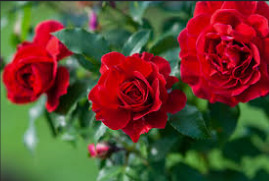RedRose: (181, 0, 268, 99), (91, 51, 181, 136), (3, 20, 70, 111)
